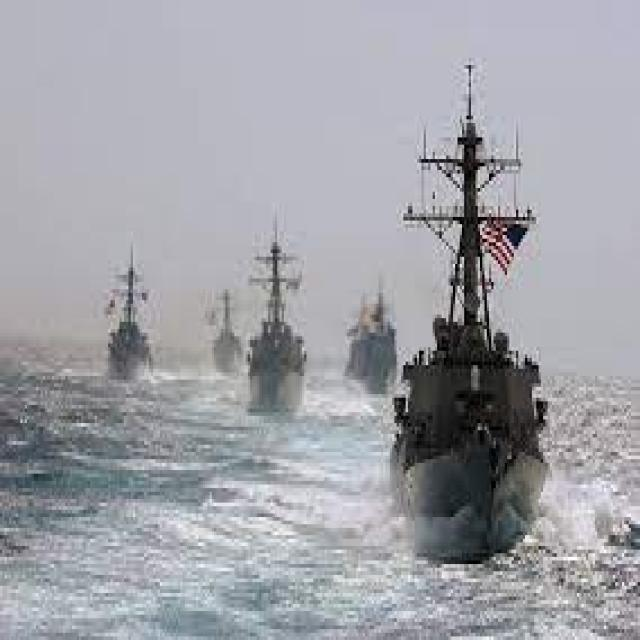navalvessels: (381, 56, 574, 555), (240, 231, 314, 428), (99, 238, 165, 388), (336, 280, 401, 384), (209, 280, 246, 381)
